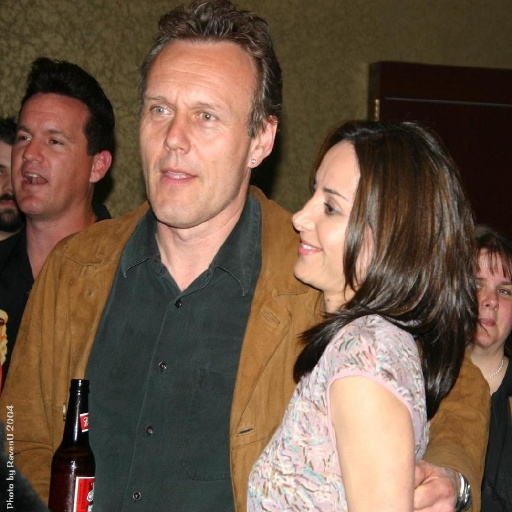hand: (409, 457, 467, 510)
